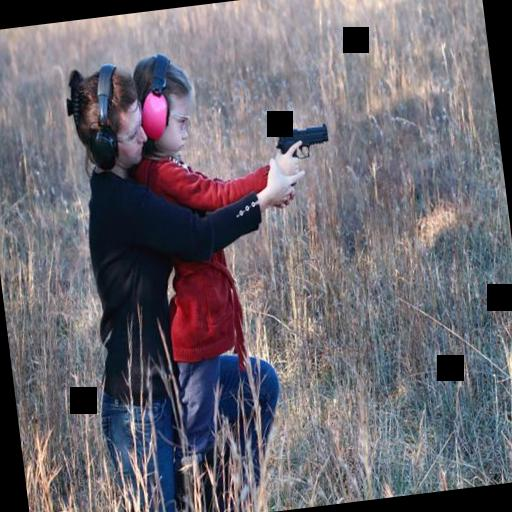Handgun: (270, 114, 336, 200)
